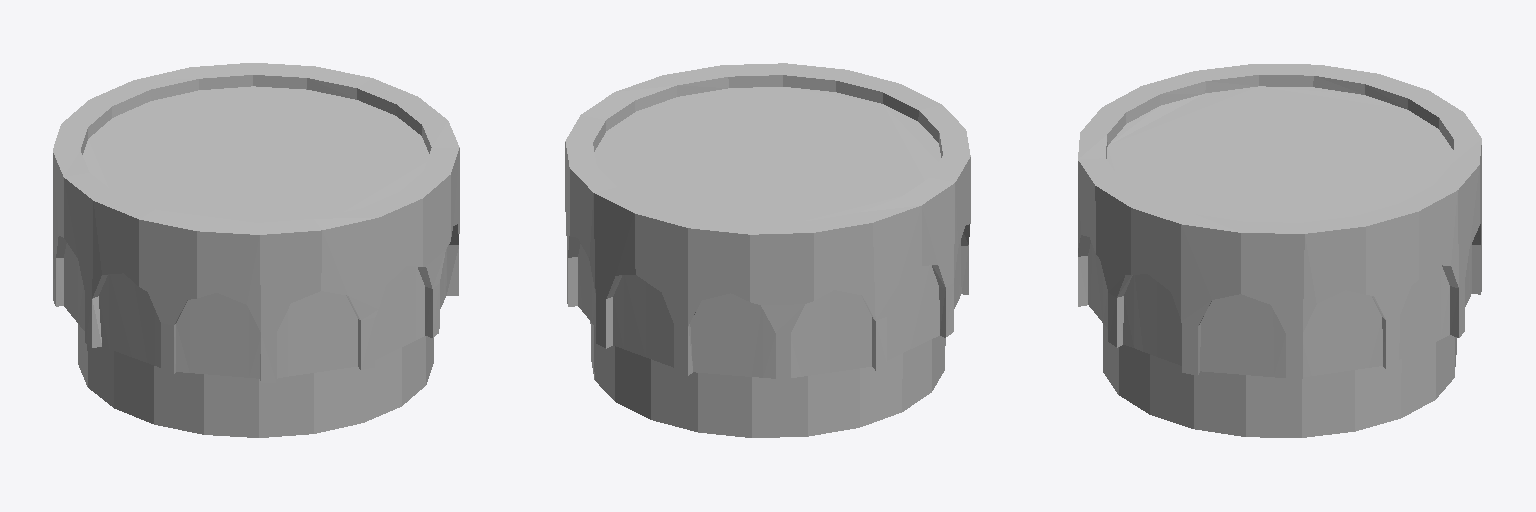
The model's file is table_5.obj.
The picture shows the model from 3 angles: view 1: azimuth 30°, elevation 25°; view 2: azimuth 150°, elevation 25°; view 3: azimuth 270°, elevation 25°; orthographic projection.
Visible parts, largest first — view 1: Mesa1.004_Cylinder.004; view 2: Mesa1.004_Cylinder.004; view 3: Mesa1.004_Cylinder.004.
Part boxes in pixels (x1,y1,x2,y2): Mesa1.004_Cylinder.004: (53,63,459,437); Mesa1.004_Cylinder.004: (565,63,970,437); Mesa1.004_Cylinder.004: (1078,64,1481,437).
Size of the model in its own units: 1.19 by 0.6999 by 1.19.